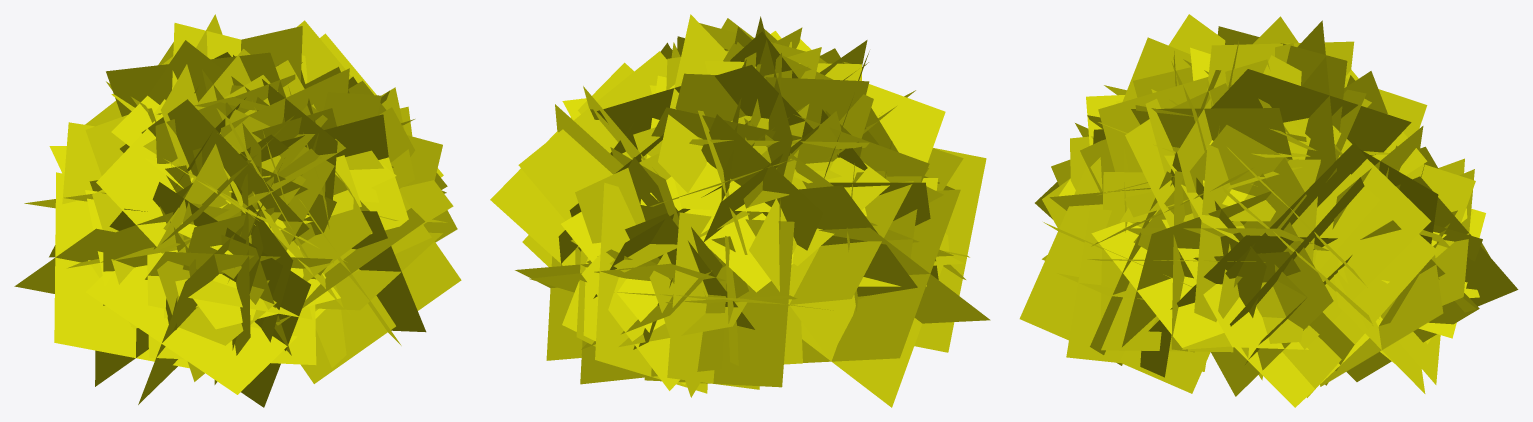
The model's file is Bush01.glb.
3 renders of one model, left to right at view 1: azimuth 30°, elevation 25°; view 2: azimuth 150°, elevation 25°; view 3: azimuth 270°, elevation 25°, orthographic. The views are drawn at different scales.
Visible parts, largest first — view 1: Bush01_LOD0; view 2: Bush01_LOD0; view 3: Bush01_LOD0.
Boxes of the visible parts, bbox=[...] form: Bush01_LOD0: bbox=[14, 14, 461, 407]; Bush01_LOD0: bbox=[490, 14, 990, 407]; Bush01_LOD0: bbox=[1019, 14, 1518, 407].
Size of the model in its own units: 2.45 by 1.85 by 2.47.
